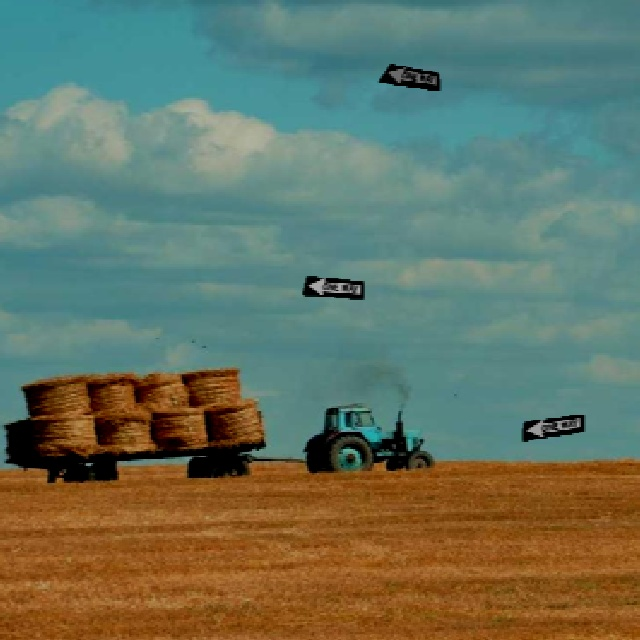ONE_WAY_ left: (378, 63, 441, 91), (522, 413, 585, 441), (302, 275, 365, 299)
